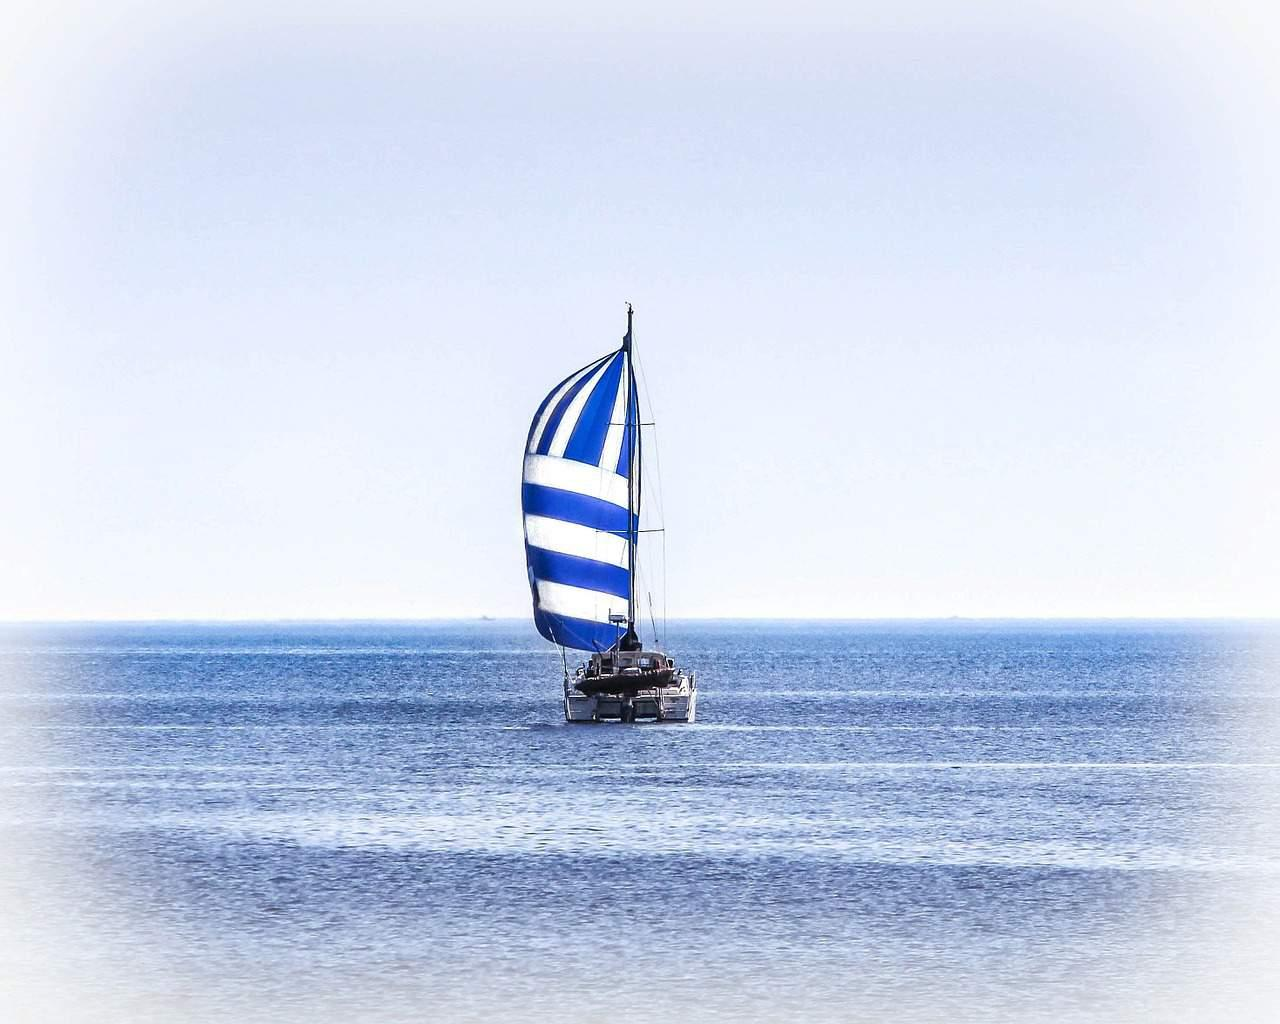Ship: (520, 297, 694, 726)
